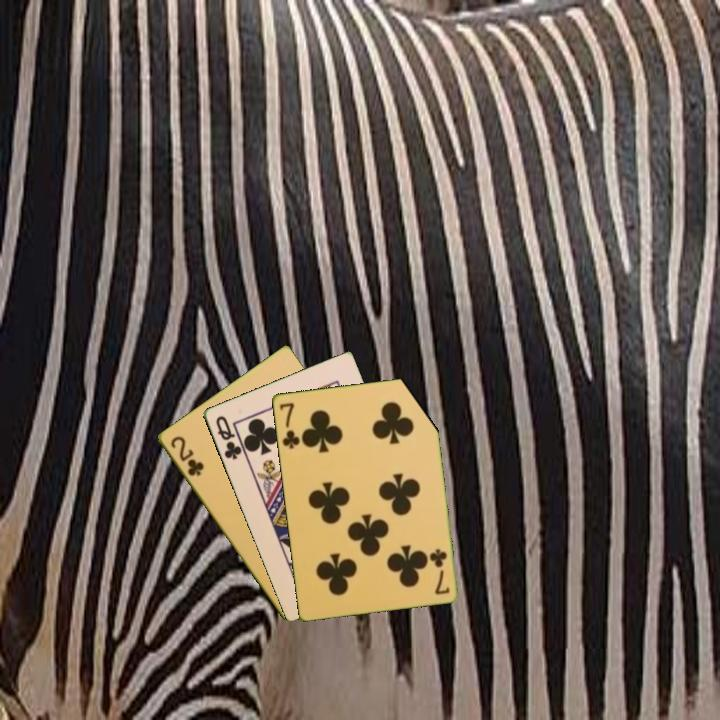2c: (166, 432, 207, 479)
7c: (276, 399, 303, 451), (427, 545, 452, 597)
Qc: (212, 412, 244, 462)
